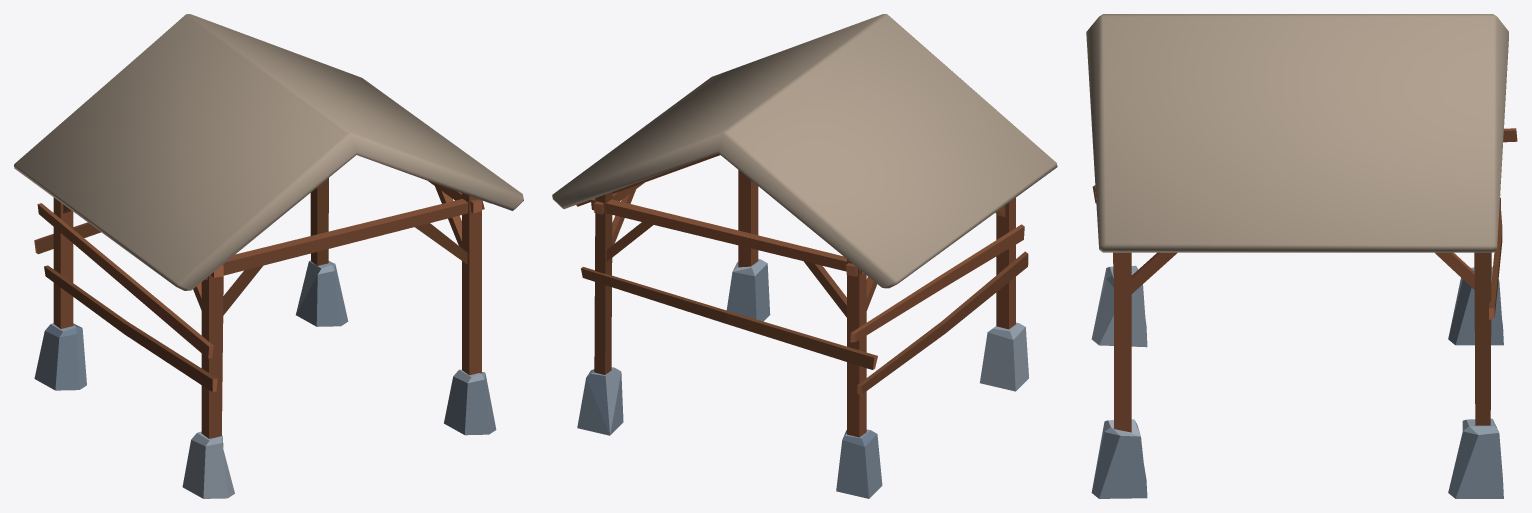
3 views of the same model, side by side, from view 1: azimuth 30°, elevation 25°; view 2: azimuth 150°, elevation 25°; view 3: azimuth 270°, elevation 25° (orthographic). The views are drawn at different scales.
Parts seen in each view (by area): view 1: Shelter_Texture-base_0; view 2: Shelter_Texture-base_0; view 3: Shelter_Texture-base_0.
Boxes of the visible parts, x1,y1,x2,y2 form: Shelter_Texture-base_0: (14, 14, 523, 498); Shelter_Texture-base_0: (552, 14, 1057, 498); Shelter_Texture-base_0: (1086, 14, 1517, 498).
Bounding box in the file's own units: 3.85 × 3.5 × 3.43.
1 material, 1 textured.
